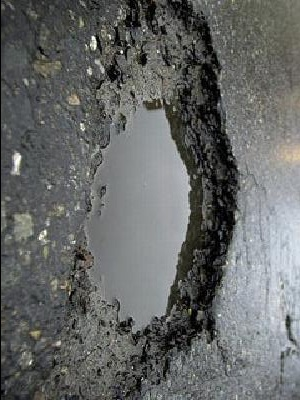pothole: (73, 0, 244, 376)
